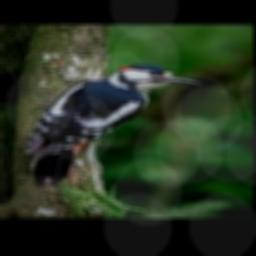Woodpecker: (23, 64, 202, 188)
